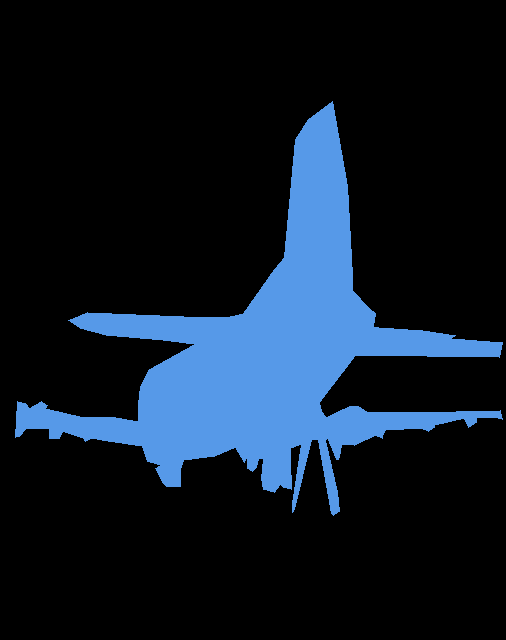Airplane: (15, 101, 502, 515)
